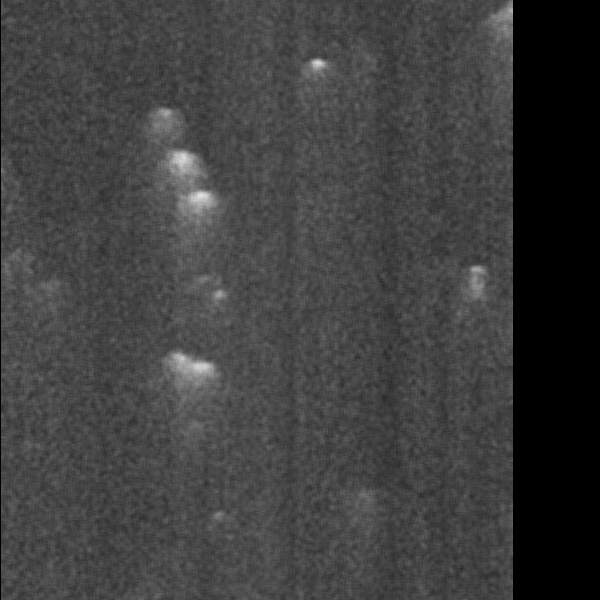spark: (308, 6, 360, 74), (463, 152, 506, 219), (198, 361, 243, 420), (161, 573, 215, 596)
